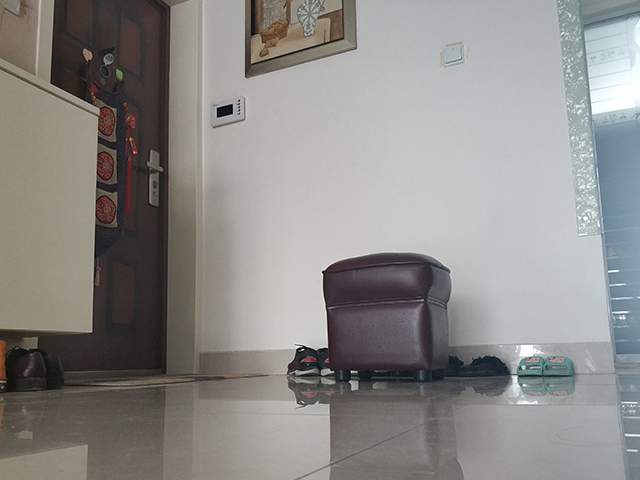slippers: (541, 355, 577, 377), (515, 355, 545, 378)
stool: (319, 249, 454, 384)
